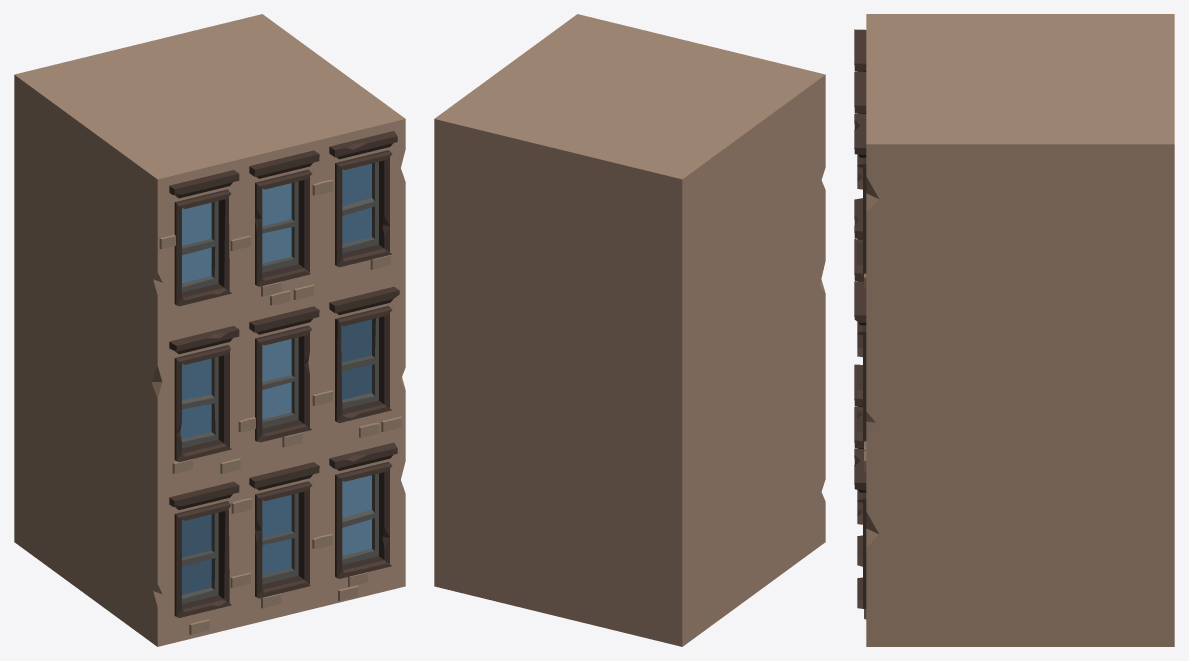
Rendered from SM_Bld_Apartment_Stack_01.obj.
The picture shows the model from 3 angles, left to right: view 1: azimuth 30°, elevation 25°; view 2: azimuth 150°, elevation 25°; view 3: azimuth 270°, elevation 25°; orthographic projection. The views are drawn at different scales.
Parts seen in each view (by area): view 1: SM_Bld_Apartment_Stack_01_0; view 2: SM_Bld_Apartment_Stack_01_0; view 3: SM_Bld_Apartment_Stack_01_0.
Boxes of the visible parts, <box> form: SM_Bld_Apartment_Stack_01_0: <box>14,14,405,646</box>; SM_Bld_Apartment_Stack_01_0: <box>434,14,825,646</box>; SM_Bld_Apartment_Stack_01_0: <box>854,14,1174,646</box>.
Bounding box in the file's own units: 5 × 9 × 5.2.
1 material, 1 textured.
